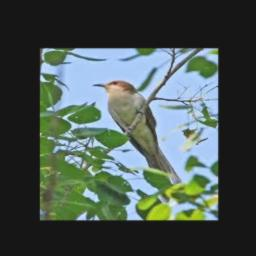Cuckoo: (92, 80, 183, 202)
